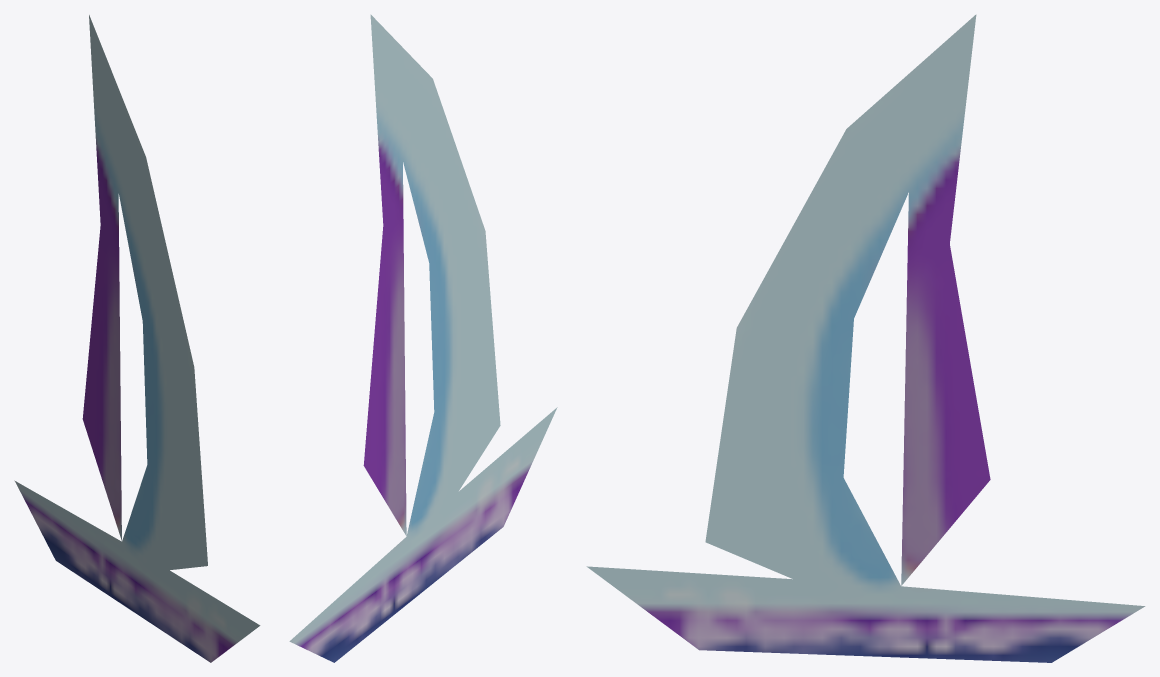
The model's file is scenes_beach_boat01a.FBX.
3 views of the same model, side by side, from view 1: azimuth 30°, elevation 25°; view 2: azimuth 150°, elevation 25°; view 3: azimuth 270°, elevation 25° (orthographic). The views are drawn at different scales.
Parts seen in each view (by area): view 1: scenes_beach_boat01a; view 2: scenes_beach_boat01a; view 3: scenes_beach_boat01a.
Part boxes in pixels (x1,y1,x2,y2): scenes_beach_boat01a: [14, 15, 260, 662]; scenes_beach_boat01a: [289, 14, 557, 662]; scenes_beach_boat01a: [586, 14, 1145, 662].
Bounding box in the file's own units: 7.7e-05 × 218 × 171.
